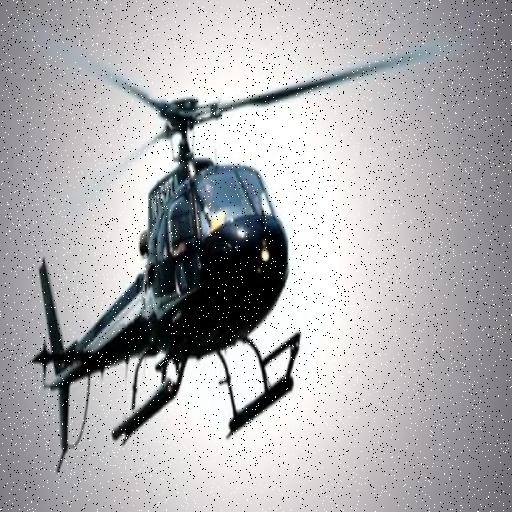helicopter: (34, 36, 472, 481)
